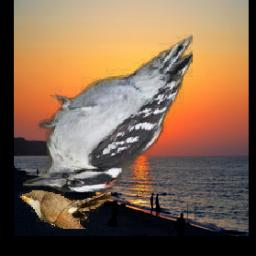Cuckoo: (19, 191, 112, 230)
Woodpecker: (24, 35, 194, 192)
